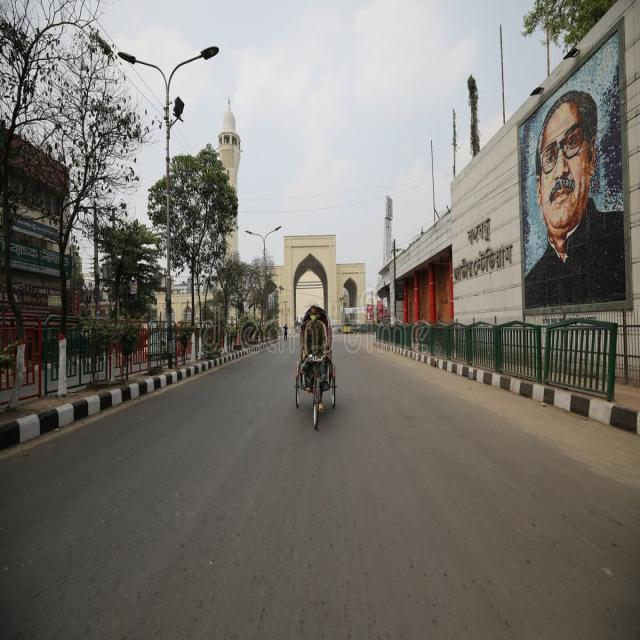Rickshaw: (280, 293, 355, 449)
